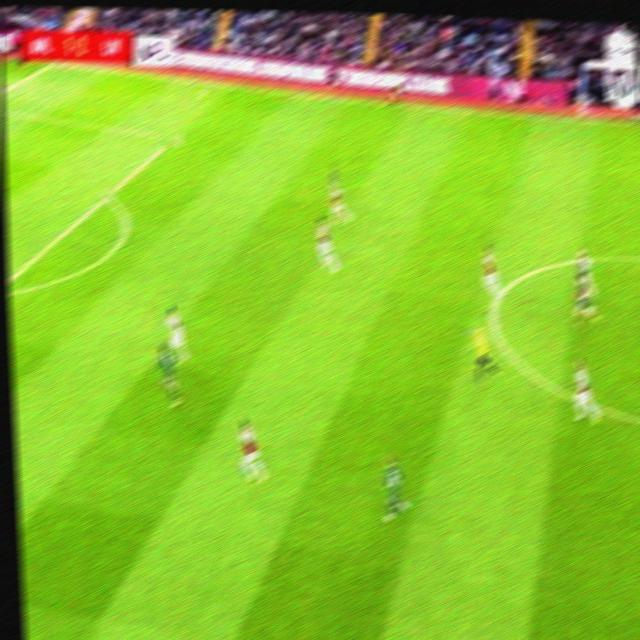bigarea_top_inner: (163, 130, 182, 147)
corner: (49, 60, 69, 67)
top_arc_area_intersection: (99, 190, 115, 206)
